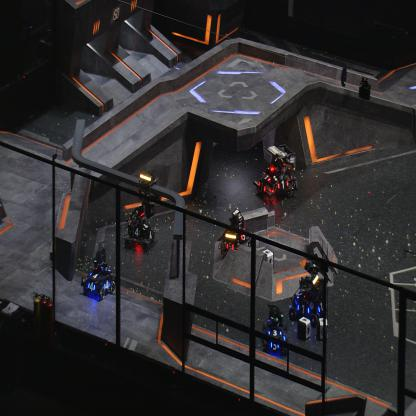car: (288, 259, 328, 327), (254, 143, 298, 202), (80, 245, 116, 300), (220, 209, 251, 260), (123, 203, 155, 252), (260, 303, 288, 356)
